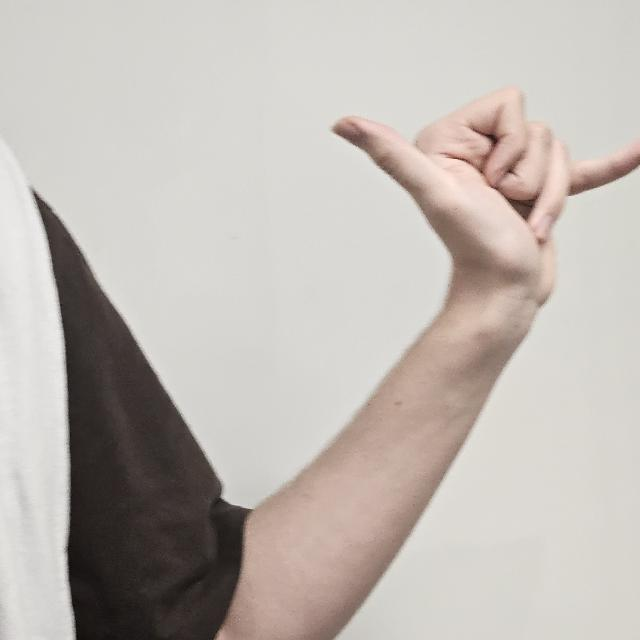Direita: (312, 64, 640, 280)
